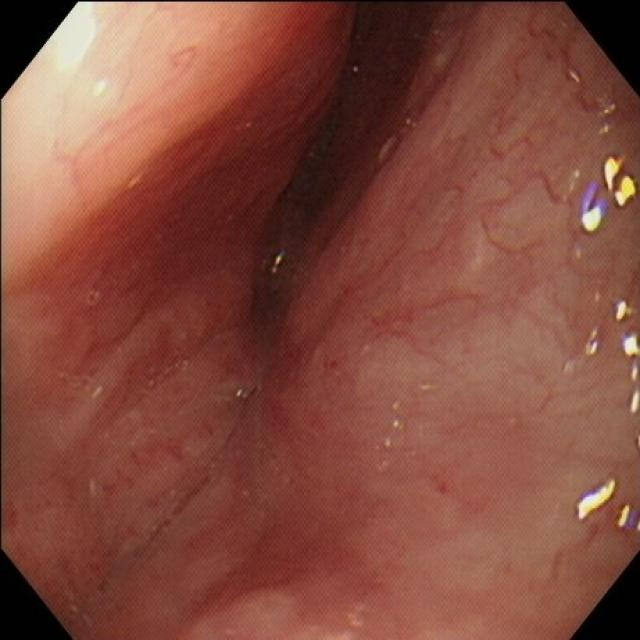E: (234, 3, 440, 302)
U: (577, 481, 618, 522), (605, 155, 634, 209), (583, 182, 604, 235), (621, 332, 640, 359), (630, 363, 640, 413), (615, 300, 634, 323), (619, 506, 631, 529)
